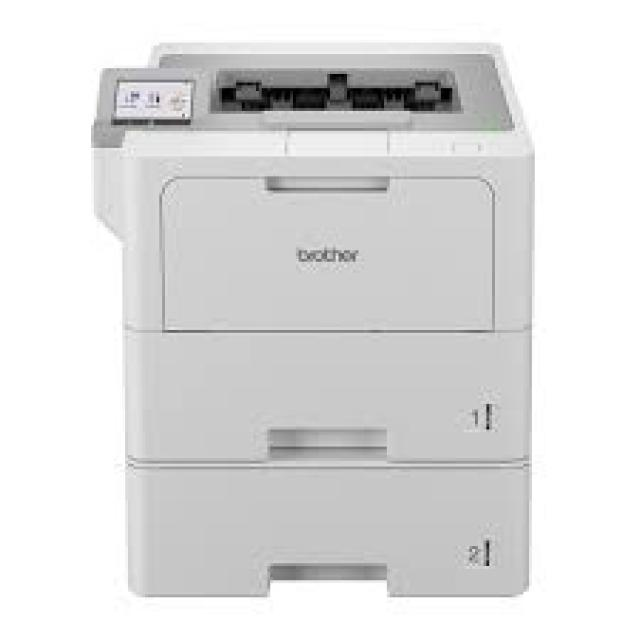printer: (88, 37, 535, 597)
